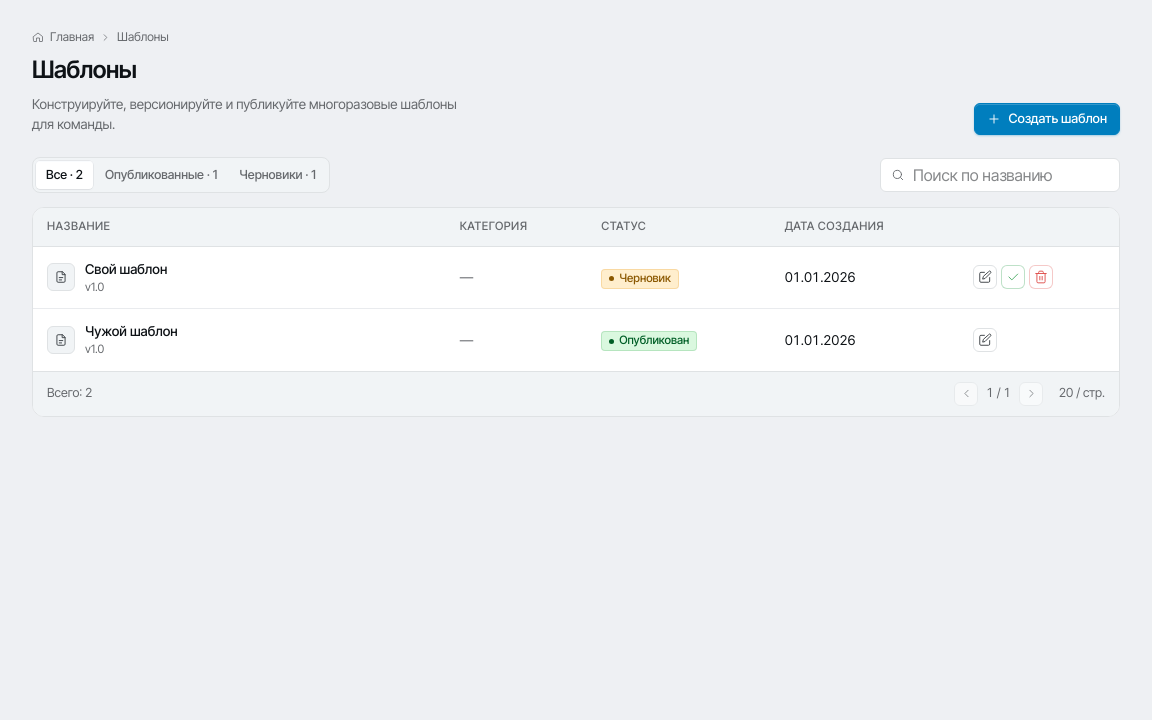
Test: TemplatesPage — права на изменяющие действия (BUG-068) › shows the server text of a 403 «Нет прав на изменение шаблона»
Expected: the text "Свой шаблон" is shown, [85,260,167,276]
Click the button named "Опубликовать шаблон" at (1013, 277), box [1001,265,1025,289]
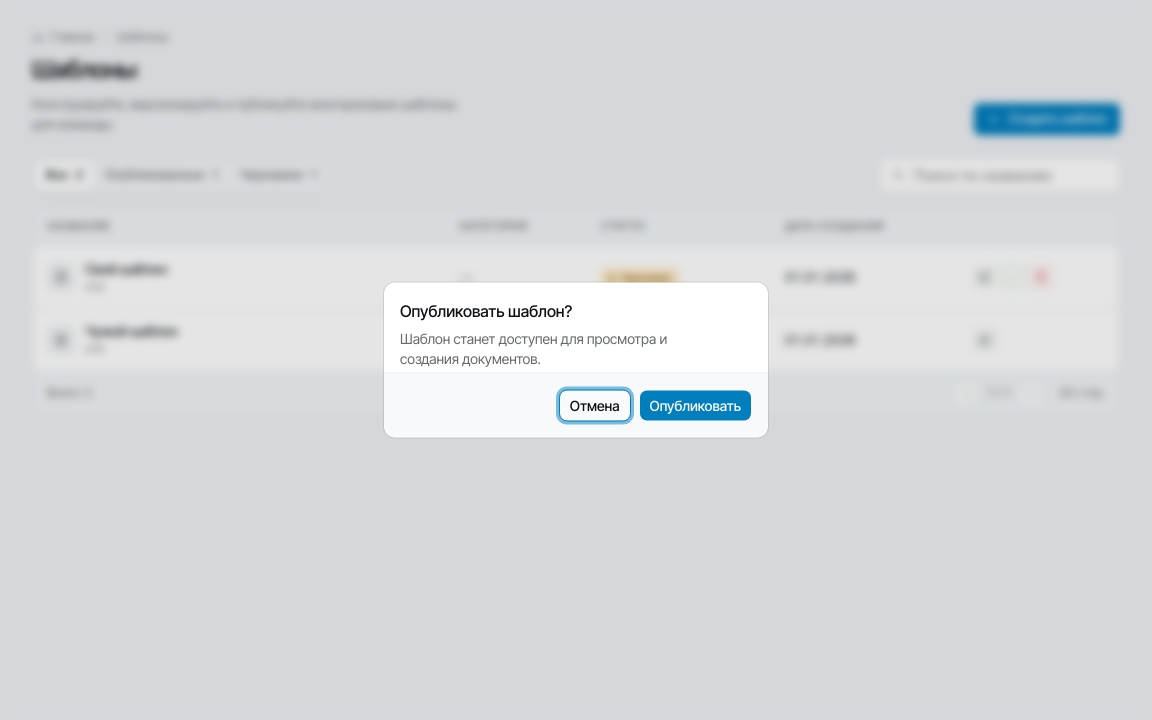
Click the button "Опубликовать" at (695, 406), box [639,390,752,422]
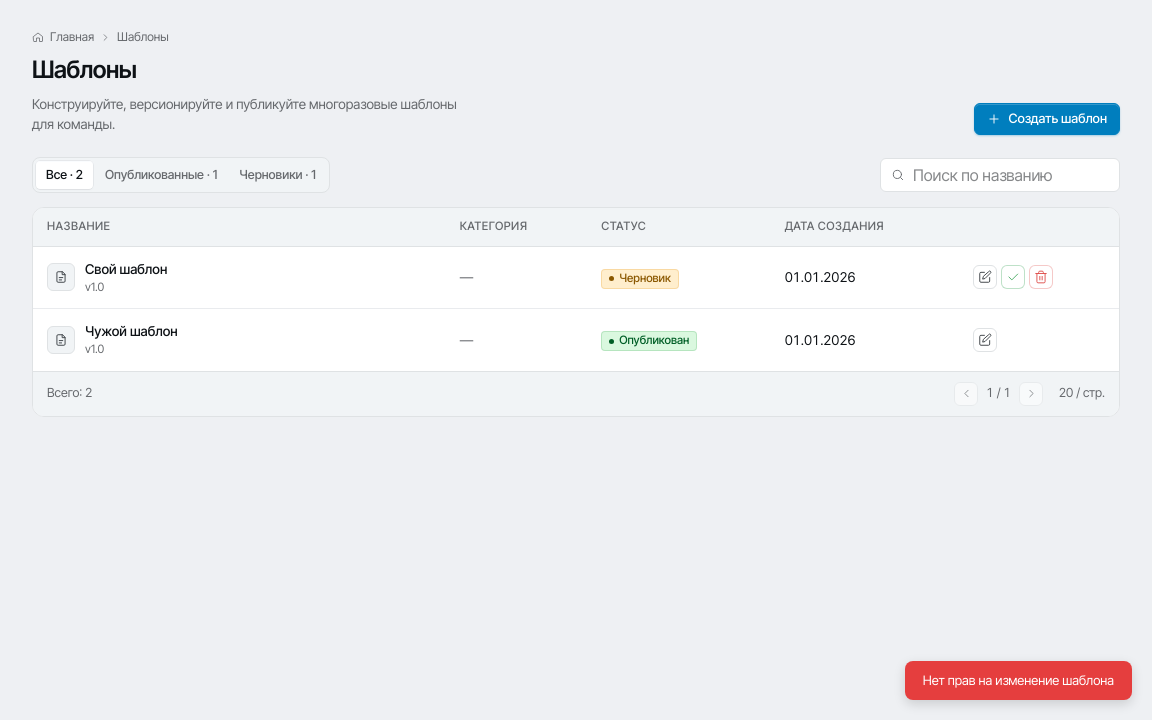
Expected: the text "Нет прав на изменение шаблона" is shown, [905,660,1132,700]
